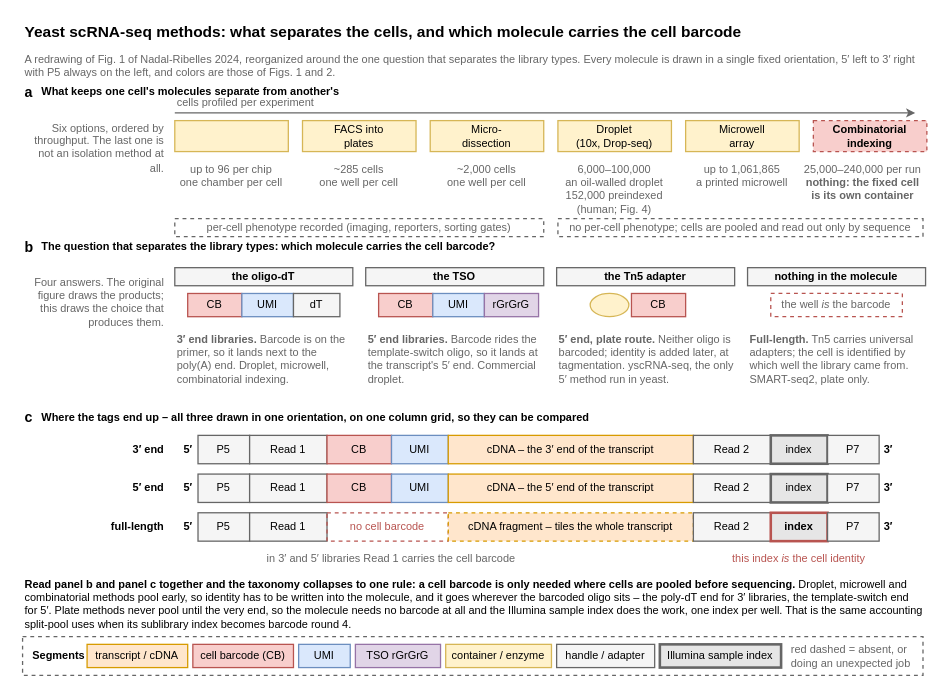
The diagram is 949 pixels wide and 698 high, and some of its shapes have lost their labels. The box of each missing label's shape, as (x1, y1, x2, y2) in pixels:
Microfluidic chip (C1): (174, 119, 288, 152)
Tn5: (589, 292, 629, 317)
